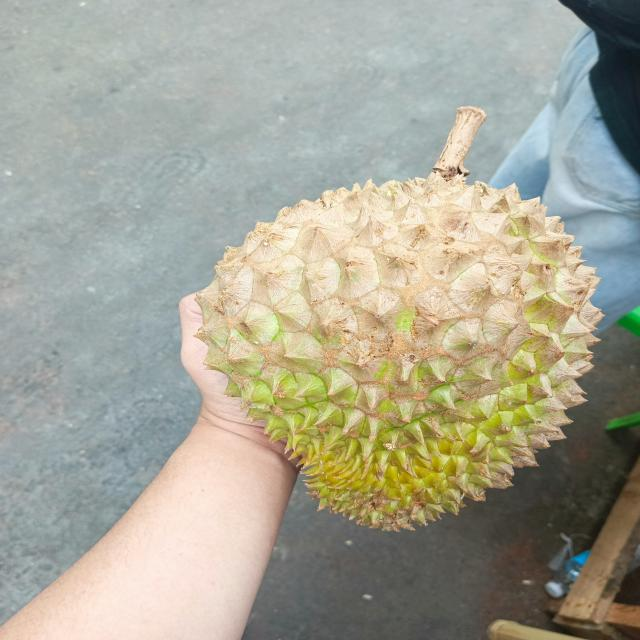mature: (186, 175, 606, 526)
